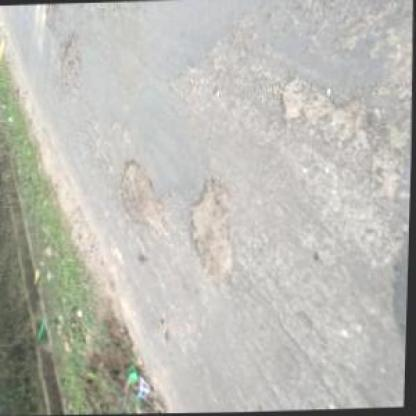pothole: (184, 175, 240, 280), (118, 154, 170, 233), (276, 72, 312, 122), (57, 32, 84, 86)
